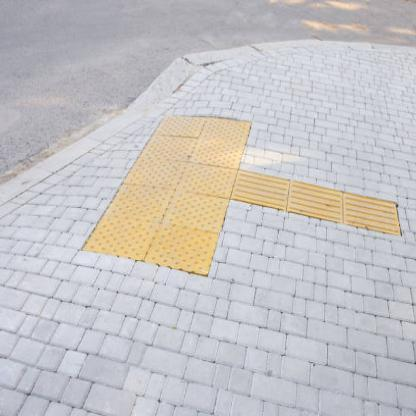podotacti: (81, 117, 401, 276)
